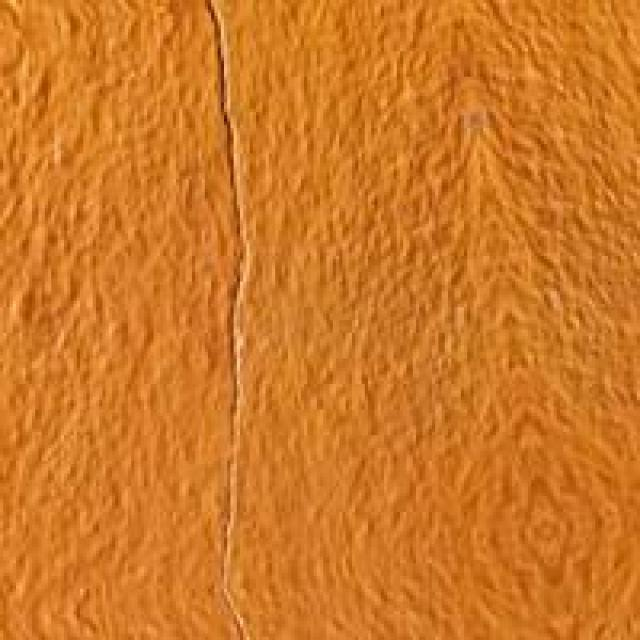crack: (170, 0, 298, 298)
